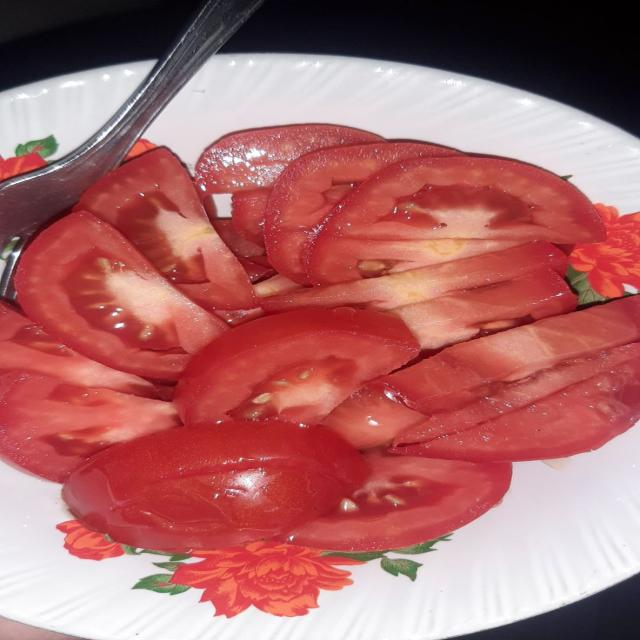sliced_tomato: (63, 421, 367, 552), (308, 157, 605, 283), (16, 212, 226, 379), (375, 297, 639, 414), (75, 148, 253, 309), (175, 308, 419, 423), (265, 143, 459, 284), (394, 353, 639, 462), (394, 343, 639, 447), (279, 455, 511, 551), (260, 242, 566, 312), (0, 373, 180, 482), (0, 302, 165, 397), (392, 270, 577, 350), (195, 124, 383, 193), (305, 238, 526, 284), (322, 387, 426, 449), (232, 188, 271, 247), (212, 219, 265, 259), (254, 275, 302, 297), (239, 258, 275, 283), (216, 308, 265, 326)
